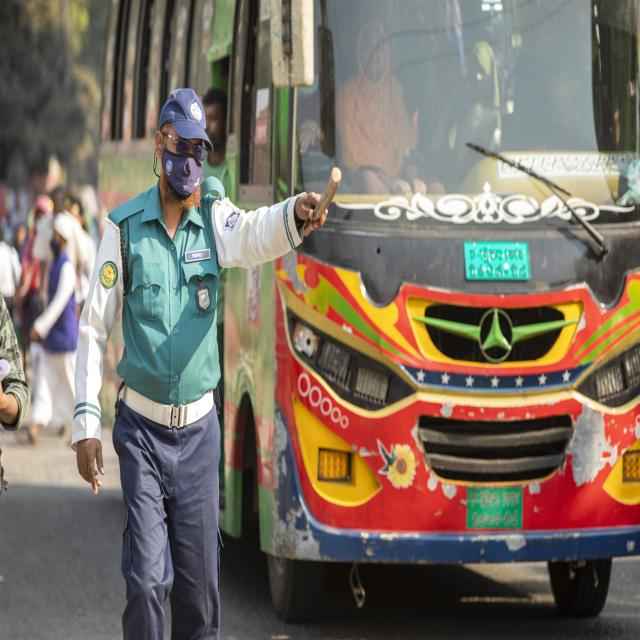traffic-police: (76, 38, 339, 640)
